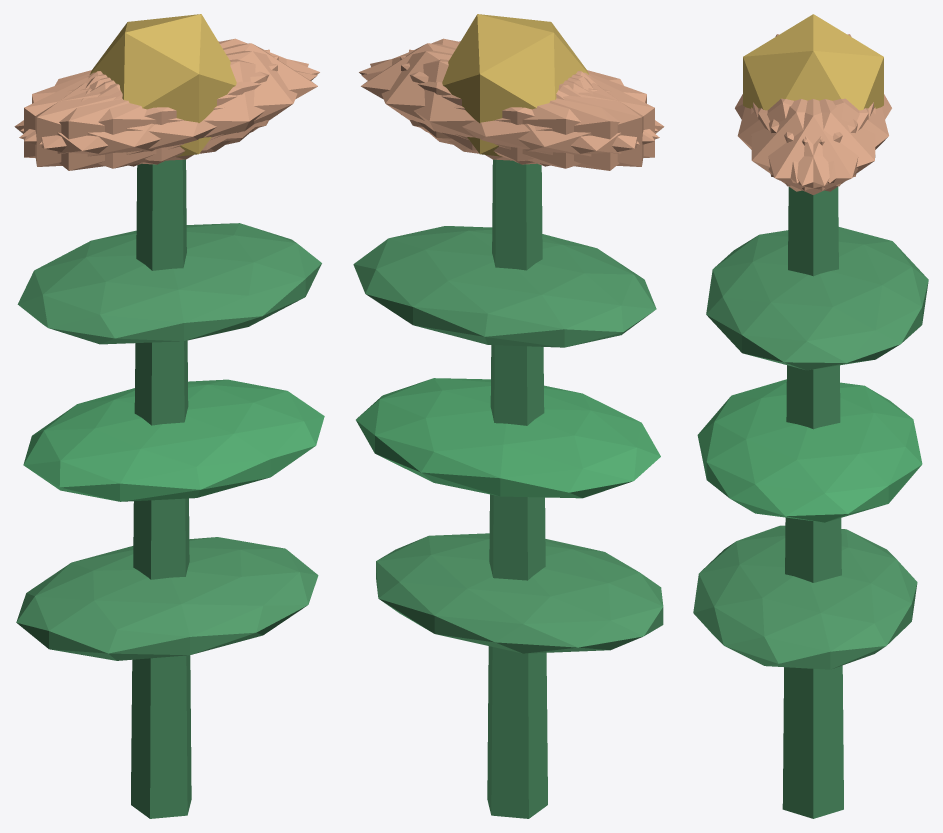
The model's file is thunbergia-grandiflora.glb.
3 views of the same model, side by side, from view 1: azimuth 30°, elevation 25°; view 2: azimuth 150°, elevation 25°; view 3: azimuth 270°, elevation 25° (orthographic).
Parts seen in each view (by area): view 1: leaf0, leaf1, leaf2, stem, center, petal1, petal6, petal2, petal5, petal7, petal0, petal4 (+2 smaller); view 2: leaf2, leaf1, leaf0, stem, center, petal8, petal3, petal7, petal4, petal2, petal0, petal5 (+2 smaller); view 3: leaf2, leaf1, leaf0, stem, center, petal0, petal5, petal4, petal1, petal8.
Part boxes in pixels (box(x1,y1,x2,y2)): leaf0: box(16, 537, 318, 660); leaf1: box(23, 379, 324, 501); leaf2: box(17, 223, 321, 344); stem: box(131, 159, 191, 818); center: box(89, 14, 236, 156); petal1: box(19, 59, 317, 168); petal6: box(14, 72, 230, 170); petal2: box(35, 49, 269, 166); petal5: box(39, 50, 308, 161); petal7: box(24, 56, 278, 164); petal0: box(89, 43, 317, 150); petal4: box(20, 38, 319, 141); leaf2: box(353, 226, 656, 347); leaf1: box(356, 378, 660, 498); leaf0: box(376, 533, 663, 653); stem: box(487, 159, 547, 818); center: box(442, 14, 588, 156); petal8: box(361, 59, 659, 168); petal3: box(448, 72, 664, 170); petal7: box(409, 49, 643, 166); petal4: box(370, 50, 639, 161); petal2: box(400, 56, 654, 164); petal0: box(361, 43, 589, 150); petal5: box(359, 38, 658, 141); leaf2: box(706, 227, 928, 370); leaf1: box(697, 379, 922, 522); leaf0: box(693, 525, 917, 669); stem: box(782, 186, 843, 818); center: box(743, 14, 883, 110); petal0: box(753, 99, 873, 194); petal5: box(751, 99, 868, 191); petal4: box(758, 99, 875, 191); petal1: box(737, 98, 857, 183); petal8: box(769, 98, 888, 183).
Size of the model in its own units: 0.1452 by 0.3703 by 0.1023.
